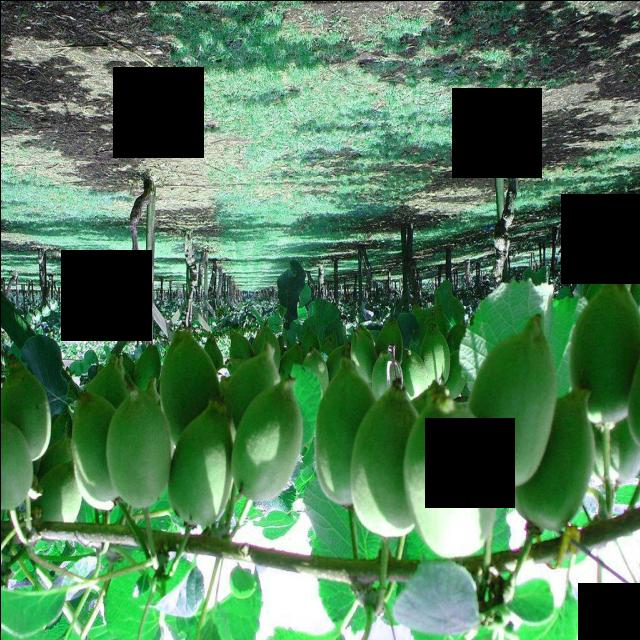kiwi: (406, 390, 501, 565), (467, 308, 555, 496), (509, 379, 598, 538), (567, 267, 640, 431), (349, 377, 419, 538), (316, 353, 377, 511), (231, 371, 302, 503), (104, 382, 170, 511), (169, 396, 232, 530), (159, 322, 224, 448), (70, 387, 122, 505), (1, 359, 54, 461), (586, 413, 640, 494), (227, 345, 282, 419), (36, 462, 84, 538), (1, 410, 32, 515), (83, 351, 134, 405), (419, 320, 452, 388), (38, 428, 82, 476), (129, 341, 167, 393), (348, 323, 378, 388), (371, 349, 403, 408), (604, 253, 634, 307), (402, 347, 428, 403), (302, 350, 328, 396), (200, 335, 227, 379), (446, 350, 472, 392), (376, 316, 404, 355), (229, 331, 257, 369), (279, 342, 307, 378), (258, 320, 286, 355), (427, 305, 454, 341), (298, 326, 323, 358), (580, 262, 603, 292), (585, 273, 603, 311), (445, 320, 467, 350), (319, 328, 339, 360), (410, 302, 430, 330)
